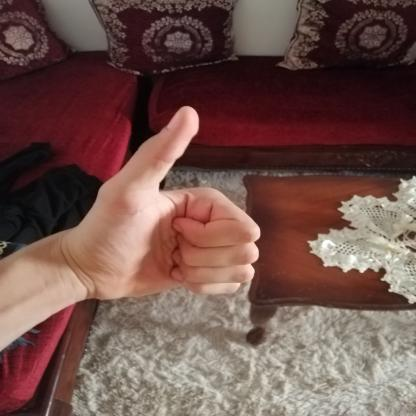ALIF: (55, 86, 274, 322)
